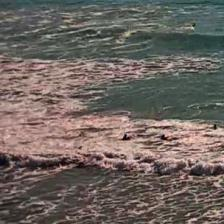surfer: (185, 23, 196, 27)
